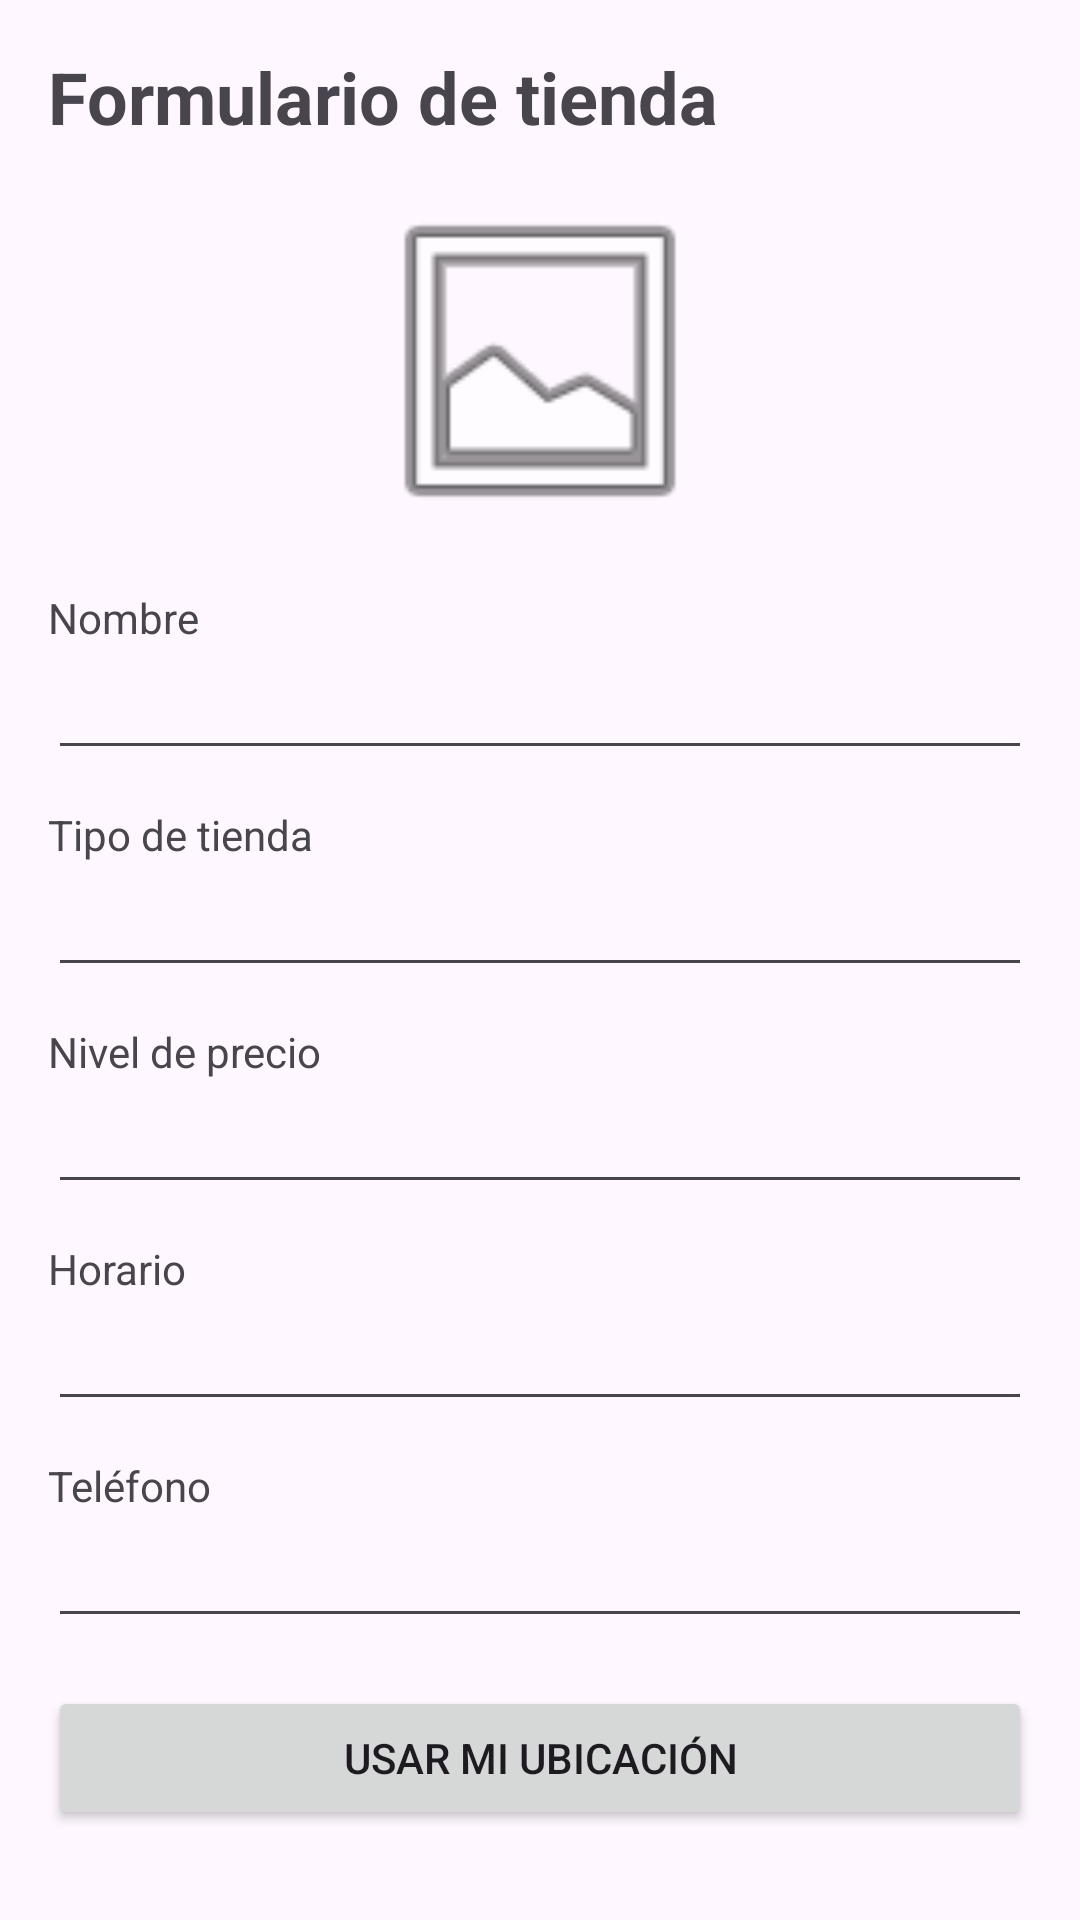

Screen size 1080x1920. Icon name, then its center in pixels as (x=x, y=y):
gallery: (x=540, y=361)
